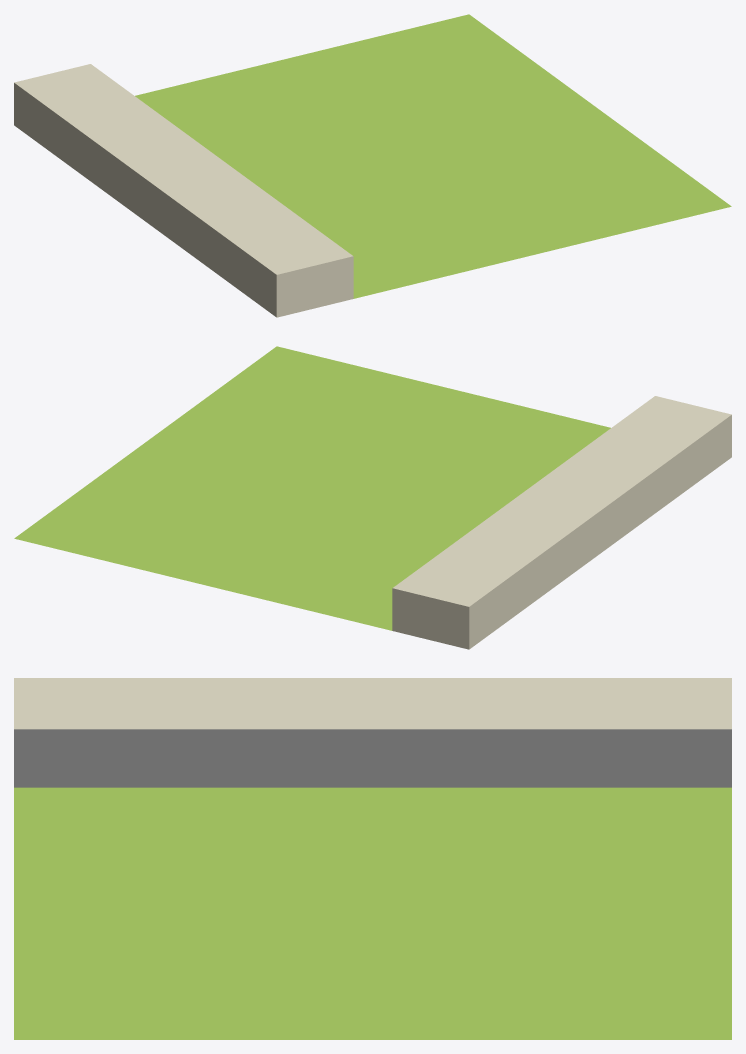
File: curb.fbx
The picture shows the model from 3 angles, top to bottom: view 1: azimuth 30°, elevation 25°; view 2: azimuth 150°, elevation 25°; view 3: azimuth 270°, elevation 25°; orthographic projection. The views are drawn at different scales.
Parts seen in each view (by area): view 1: Curb; view 2: Curb; view 3: Curb.
Boxes of the visible parts, x1,y1,x2,y2 form: Curb: (14, 14, 731, 317); Curb: (14, 346, 731, 649); Curb: (14, 678, 731, 1039).
Bounding box in the file's own units: 150 × 13.47 × 150.
